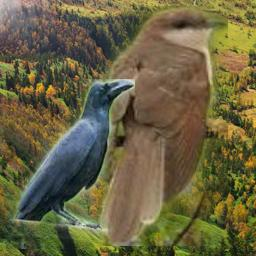Crow: (5, 79, 135, 249)
Cuckoo: (98, 6, 228, 246)
